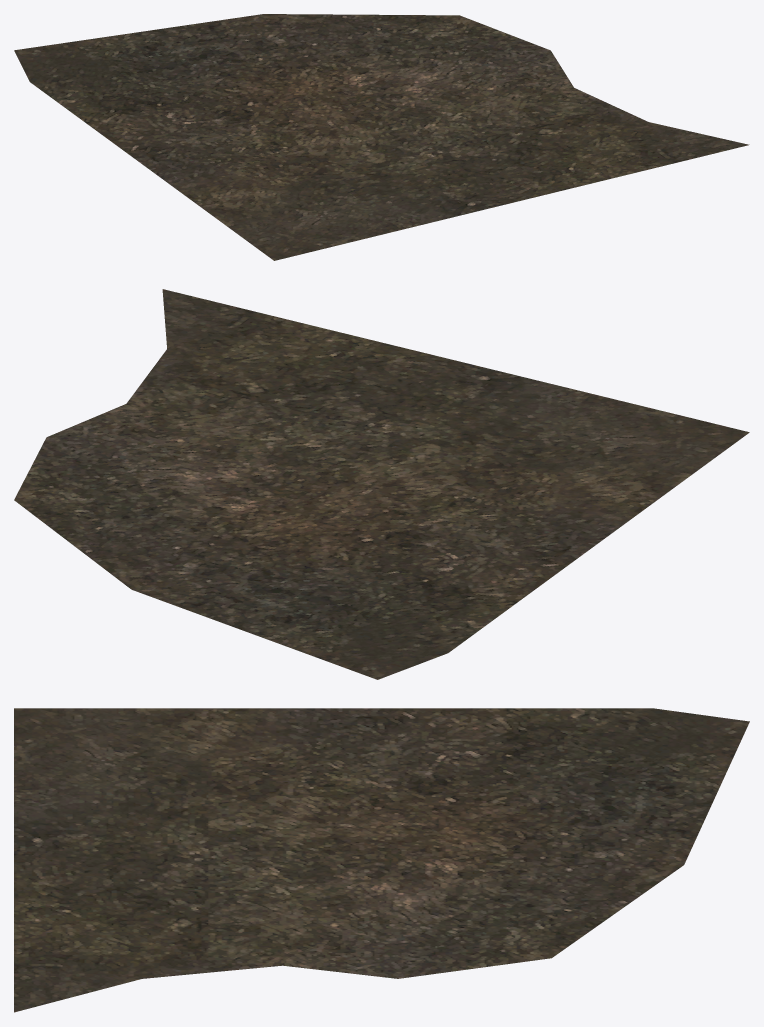
The model's file is menu_blend_weeds10.fbx.
3 views of the same model, one above another, from view 1: azimuth 30°, elevation 25°; view 2: azimuth 150°, elevation 25°; view 3: azimuth 270°, elevation 25° (orthographic). The views are drawn at different scales.
Visible parts, largest first — view 1: New_terrain/weeds_shadow; view 2: New_terrain/weeds_shadow; view 3: New_terrain/weeds_shadow.
Boxes of the visible parts, box(x1,y1,x2,y2) form: New_terrain/weeds_shadow: box(14, 14, 749, 260); New_terrain/weeds_shadow: box(14, 289, 749, 679); New_terrain/weeds_shadow: box(14, 708, 749, 1012).
Size of the model in its own units: 14.05 by 0.00154 by 14.37.
